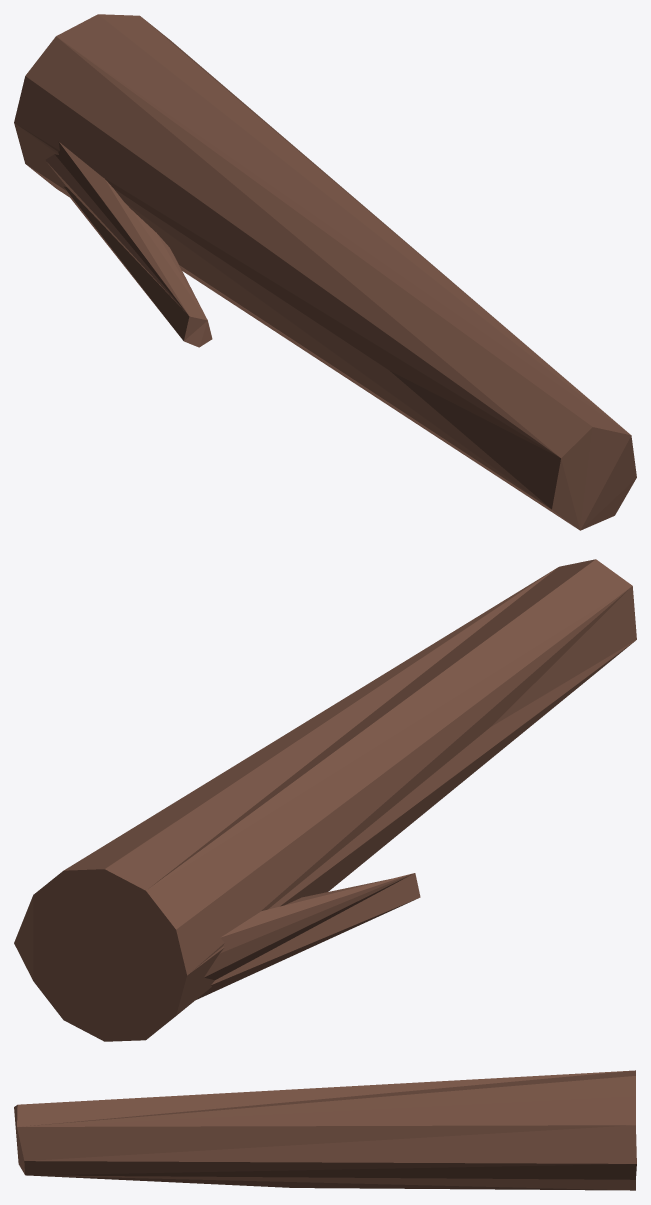
The model's file is Stick by Chris Lee - 8UagpavGns3.glb.
3 renders of one model, top to bottom at view 1: azimuth 30°, elevation 25°; view 2: azimuth 150°, elevation 25°; view 3: azimuth 270°, elevation 25°, orthographic. The views are drawn at different scales.
Parts seen in each view (by area): view 1: group1999749593, group1489082553; view 2: group1999749593, group1489082553; view 3: group1999749593.
Part boxes in pixels (x1,y1,x2,y2): group1999749593: [14, 14, 636, 530]; group1489082553: [45, 142, 212, 347]; group1999749593: [14, 559, 636, 1041]; group1489082553: [196, 873, 420, 999]; group1999749593: [14, 1070, 636, 1190].
Size of the model in its own units: 0.1122 by 0.09 by 0.4651.
